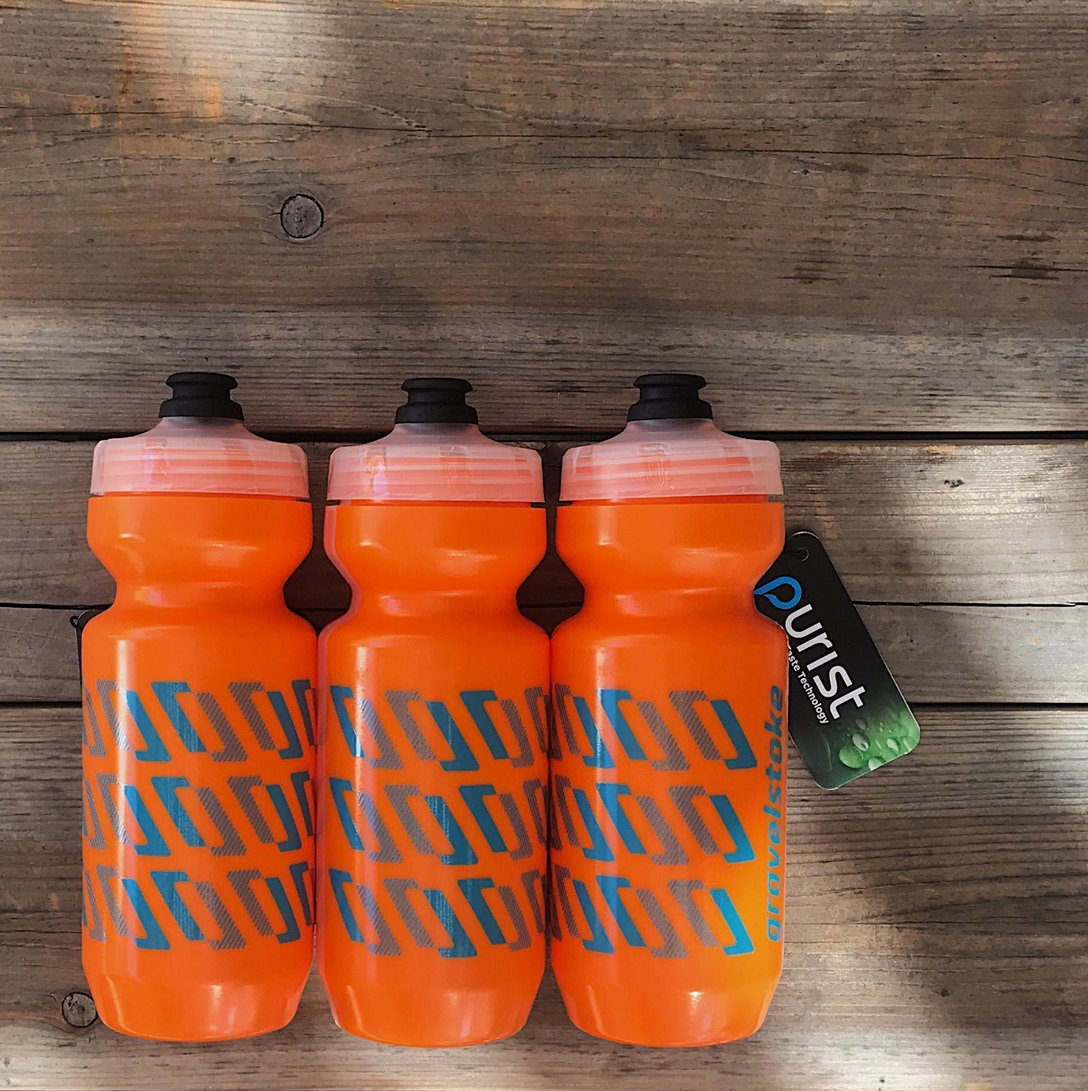gym bottle: (74, 370, 321, 1047), (546, 373, 792, 1052), (315, 382, 553, 1050)
